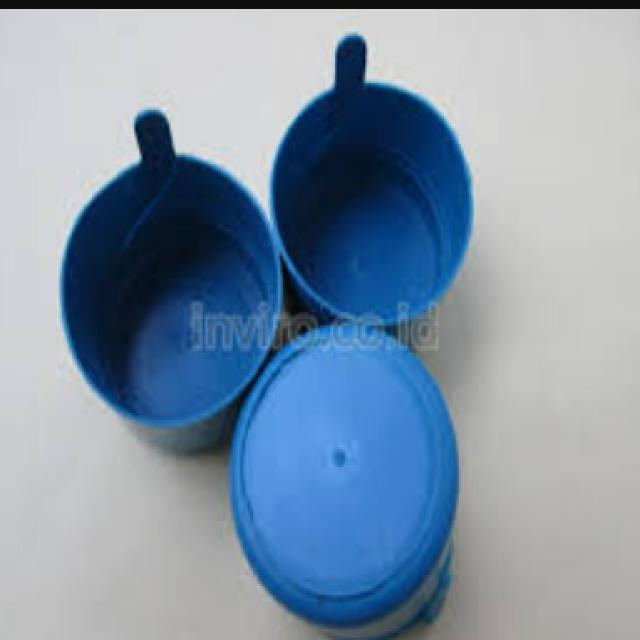TutupGalon: (57, 31, 476, 638)
